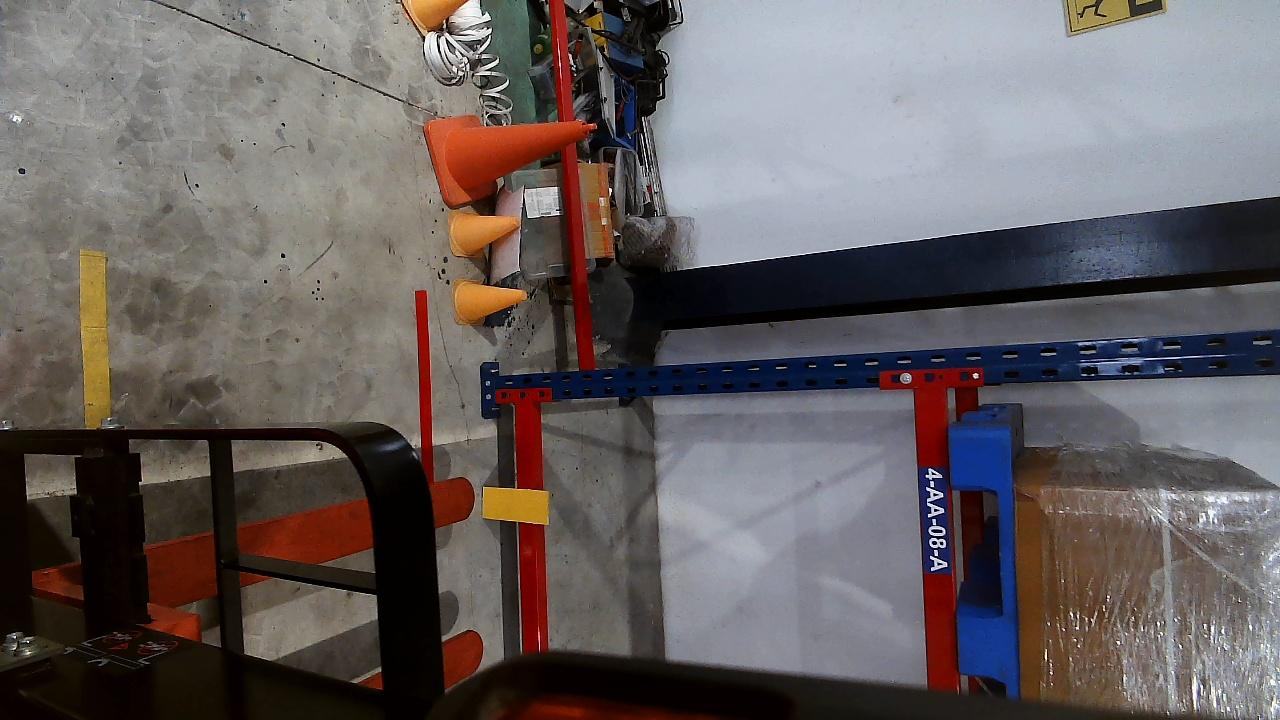h_rack: (910, 384, 964, 693), (512, 401, 545, 651)
orange_strip: (482, 488, 550, 524)
red_line: (413, 289, 435, 475)
small_pallet: (945, 419, 1017, 695)
yellow_line: (78, 249, 111, 427)
